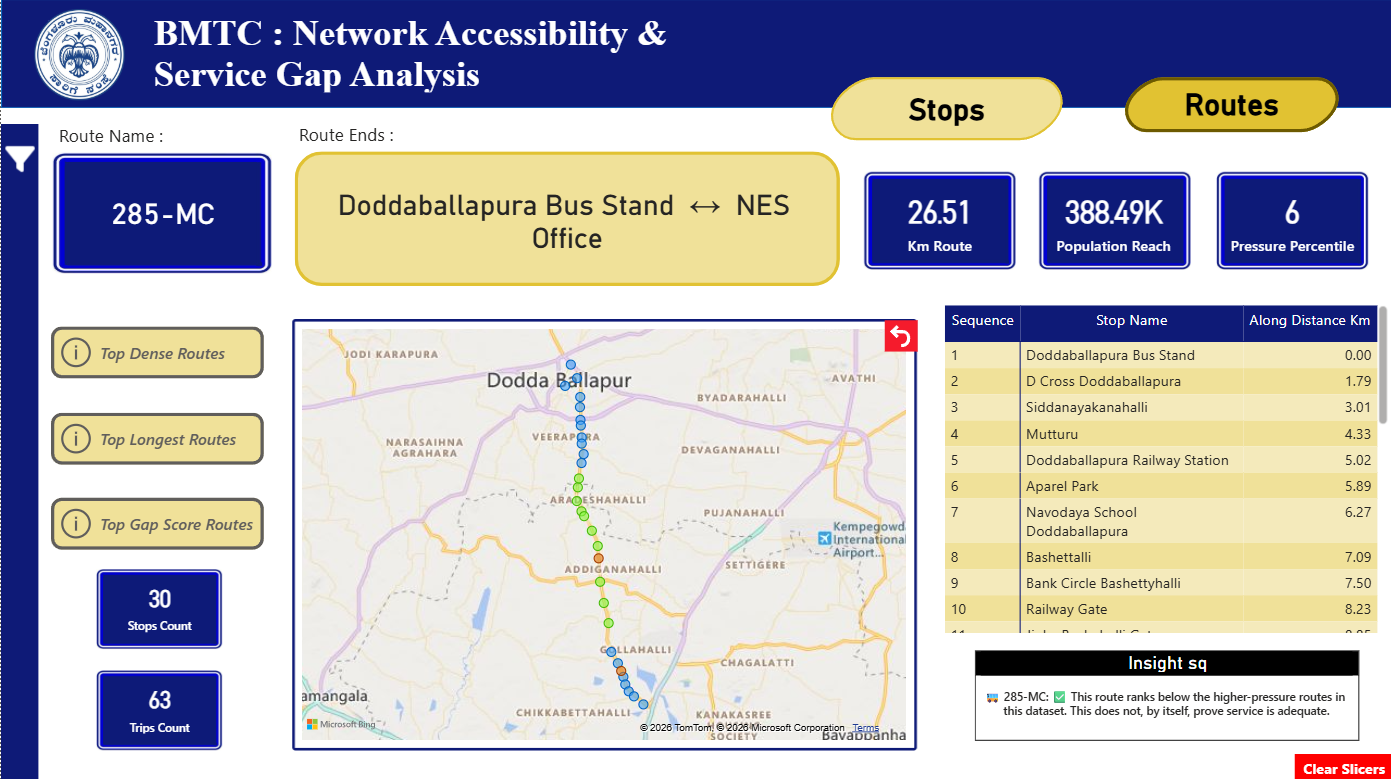

This screenshot's page, from the dashboard's own definition file:
{"tool":"powerbi","page":{"name":"Routes Dashboard","canvas":[1280,720],"ordinal":1},"visuals":[{"type":"shape","title":"bg Shape","box":[0,0,1280,720.3],"z":0},{"type":"image","box":[792.8,158.9,140,90],"z":0,"group":"g1"},{"type":"image","box":[954,158.9,140,90],"z":0,"group":"g2"},{"type":"image","box":[1116.8,158.9,140,90],"z":0,"group":"g3"},{"type":"image","box":[87.7,524.6,116.2,73.4],"z":0,"group":"g5"},{"type":"image","box":[87.7,617.8,116.2,73.4],"z":0,"group":"g4"},{"type":"shape","title":"Filter Strip Shape","box":[0,115.4,34.6,604.5],"z":1000},{"type":"card","fields":{"Values":["Key Measure.Smart Route Length"]},"box":[794,162.5,138.8,82.5],"z":1000,"group":"g1"},{"type":"card","fields":{"Values":["Key Measure.Smart Population Reach"]},"box":[953.8,162.5,138.8,82.5],"z":1000,"group":"g2"},{"type":"card","title":"Pressure Index Card","fields":{"Values":["Key Measure.Pressure Index"]},"box":[1118,162.5,138.8,82.5],"z":1000,"group":"g3"},{"type":"card","fields":{"Values":["Key Measure.Selected Route Stops"]},"box":[104.8,529.5,83.2,58.7],"z":1000,"group":"g5"},{"type":"card","fields":{"Values":["Key Measure.Selected Route Trips"]},"box":[104.8,622.5,83.2,58.7],"z":1000,"group":"g4"},{"type":"shape","box":[270.1,139.7,501.2,123.8],"z":2000},{"type":"image","box":[47.6,140.9,201.2,111.2],"z":3000},{"type":"shape","title":"Header","box":[0,0,1280.3,100.3],"z":4000},{"type":"image","title":"Logo","box":[23.8,8.8,96.2,83.8],"z":5000},{"type":"actionButton","title":"Stops Page Button","box":[752,67.3,236,66],"z":6000},{"type":"actionButton","title":"Routes Page Button","box":[1023.5,67.3,217.7,58.7],"z":7000},{"type":"card","title":"Route Full name Card","fields":{"Values":["Key Measure.Selected Route Full Name"]},"box":[280.1,140.9,481.2,122.5],"z":8000},{"type":"actionButton","title":"Filter Button","box":[0,126.2,35,41.2],"z":10000},{"type":"textbox","title":"BMTC : Network Accessibility & Service Gap Analysis","box":[135.6,11.2,568.5,74.6],"z":11000},{"type":"card","title":"Route Id Card","fields":{"Values":["Key Measure.Selected Route Name"]},"box":[51.3,148.4,195,96.2],"z":12000},{"type":"textbox","title":"Route Name Text box","box":[48.8,109.7,176.2,31.2],"z":13000},{"type":"textbox","title":"Route Ends Text box","box":[268.8,108.4,176.2,31.2],"z":14000},{"type":"group","id":"g1","title":"Route Length Group","box":[792.8,158.9,140,90],"z":15000},{"type":"group","id":"g2","title":"Population Reach Group","box":[953.8,158.9,140.2,90],"z":16000},{"type":"group","id":"g3","title":"Pressure Index Card","box":[1116.8,158.9,140,90],"z":17000},{"type":"actionButton","title":"Top Dense Button","box":[46.2,300.8,195.7,47.7],"z":18000},{"type":"actionButton","title":"Top Longest Button","box":[46.2,379.9,195.7,47.7],"z":19000},{"type":"actionButton","title":"Top Gap Button","box":[46.2,459,195.7,47.7],"z":20000},{"type":"pivotTable","title":"Sq Matrix","fields":{"Rows":["route_stop_mapping.stop_sequence"],"Values":["Min(stops_for_powerbi.name)","Key Measure.Clean Distance"]},"box":[863.3,277.6,417,310.6],"z":21000},{"type":"group","id":"g4","title":"Trip Count Group","box":[87.7,617.8,116.2,73.4],"z":25000},{"type":"group","id":"g5","title":"Stops Count Group","box":[87.7,524.6,116.2,73.4],"z":26000},{"type":"card","title":"Insight sq","fields":{"Values":["Key Measure.Route Insights Narrative"]},"box":[895.7,598.3,353.3,83.3],"z":27000},{"type":"map","title":"Map - sq","fields":{"Series":["stops_for_powerbi.status"],"X":["stops_for_powerbi.lon"],"Y":["stops_for_powerbi.lat"]},"box":[268.4,294.3,574.2,396.8],"z":27500},{"type":"actionButton","title":"Back Button sq","box":[812.3,295.8,30.3,28.9],"z":28000},{"type":"actionButton","title":"Clear Slicer Button","box":[1189.2,694.1,90.8,26.1],"z":47000}]}

Visuals, with their boxes in screenshot pixels (x1, y1, x2, y2), scaled from the page's 1280x720 canvas onto the 1391x779 screenshot:
"bg Shape" shape: (0, 0, 1390, 778)
image: (862, 172, 1014, 269)
image: (1037, 172, 1189, 269)
image: (1214, 172, 1366, 269)
image: (95, 568, 222, 647)
image: (95, 668, 222, 748)
"Filter Strip Shape" shape: (0, 125, 38, 778)
card - Key Measure.Smart Route Length: (863, 176, 1014, 265)
card - Key Measure.Smart Population Reach: (1037, 176, 1187, 265)
"Pressure Index Card" card: (1215, 176, 1366, 265)
card - Key Measure.Selected Route Stops: (114, 573, 204, 636)
card - Key Measure.Selected Route Trips: (114, 674, 204, 737)
shape: (294, 151, 838, 285)
image: (52, 152, 270, 273)
"Header" shape: (0, 0, 1390, 109)
"Logo" image: (26, 10, 130, 100)
"Stops Page Button" actionButton: (817, 73, 1074, 144)
"Routes Page Button" actionButton: (1112, 73, 1349, 136)
"Route Full name Card" card: (304, 152, 827, 285)
"Filter Button" actionButton: (0, 137, 38, 181)
"BMTC : Network Accessibility & Service Gap Analysis" textbox: (147, 12, 765, 93)
"Route Id Card" card: (56, 161, 268, 265)
"Route Name Text box" textbox: (53, 119, 245, 152)
"Route Ends Text box" textbox: (292, 117, 484, 151)
"Route Length Group" group: (862, 172, 1014, 269)
"Population Reach Group" group: (1037, 172, 1189, 269)
"Pressure Index Card" group: (1214, 172, 1366, 269)
"Top Dense Button" actionButton: (50, 325, 263, 377)
"Top Longest Button" actionButton: (50, 411, 263, 463)
"Top Gap Button" actionButton: (50, 497, 263, 548)
"Sq Matrix" pivotTable: (938, 300, 1390, 636)
"Trip Count Group" group: (95, 668, 222, 748)
"Stops Count Group" group: (95, 568, 222, 647)
"Insight sq" card: (973, 647, 1357, 737)
"Map - sq" map: (292, 318, 916, 748)
"Back Button sq" actionButton: (883, 320, 916, 351)
"Clear Slicer Button" actionButton: (1292, 751, 1390, 778)
